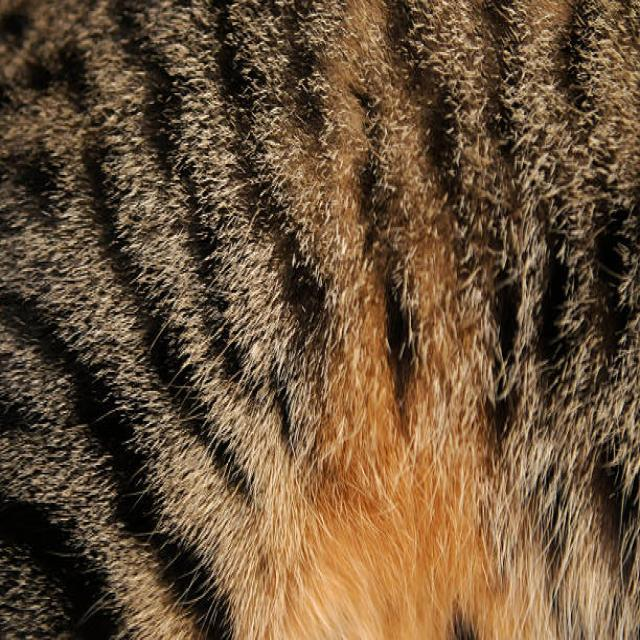Healthy skin: (2, 2, 278, 372), (288, 13, 507, 466), (13, 400, 286, 596), (512, 13, 630, 420), (301, 478, 623, 619)
